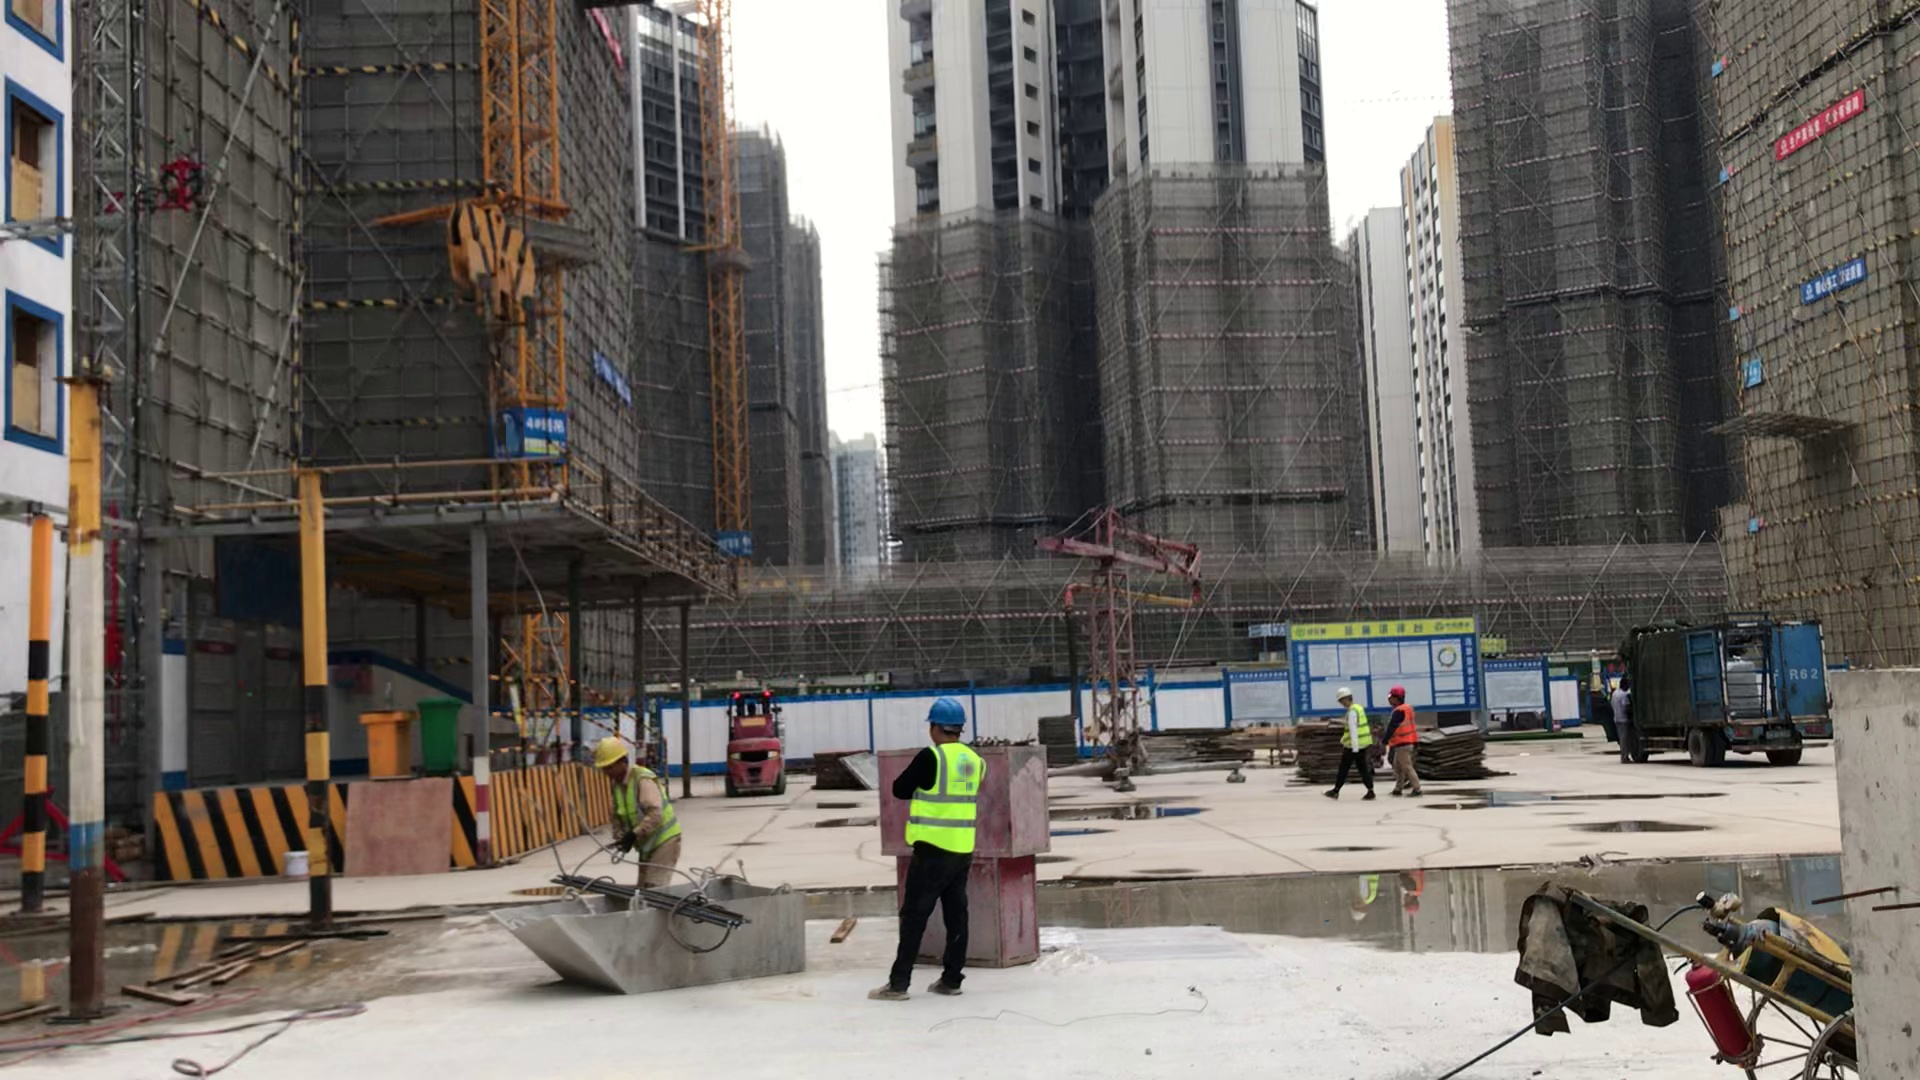board: (1375, 708, 1510, 787), (1291, 717, 1387, 787)
fence: (475, 668, 649, 778)
handcart: (1495, 858, 1872, 1080)
helmet: (920, 692, 980, 731), (588, 731, 634, 765), (1390, 676, 1413, 702), (1332, 681, 1353, 705)
hook: (425, 177, 560, 408)
hopper: (472, 870, 845, 1018)
person: (861, 685, 1005, 1015), (573, 719, 713, 915), (1321, 674, 1379, 812), (1378, 679, 1433, 810), (1598, 672, 1646, 770)
rebar: (537, 866, 772, 941)
slogan: (1281, 609, 1496, 737), (1760, 68, 1876, 170), (1794, 232, 1876, 323), (476, 400, 567, 470), (579, 351, 642, 415), (1225, 608, 1291, 654), (710, 526, 763, 569), (1740, 353, 1779, 401)
vest: (902, 738, 994, 855), (597, 768, 689, 865), (1379, 701, 1423, 754), (1336, 702, 1374, 753)
wood: (1214, 717, 1295, 760)
